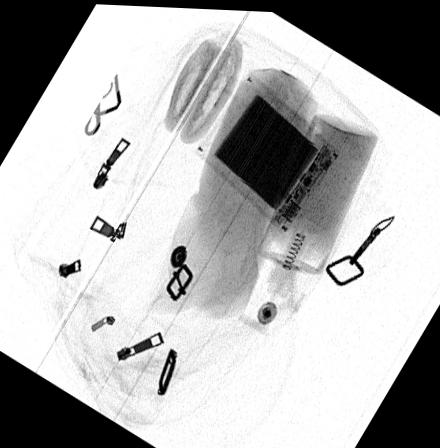Powerbank: (193, 70, 340, 230)
